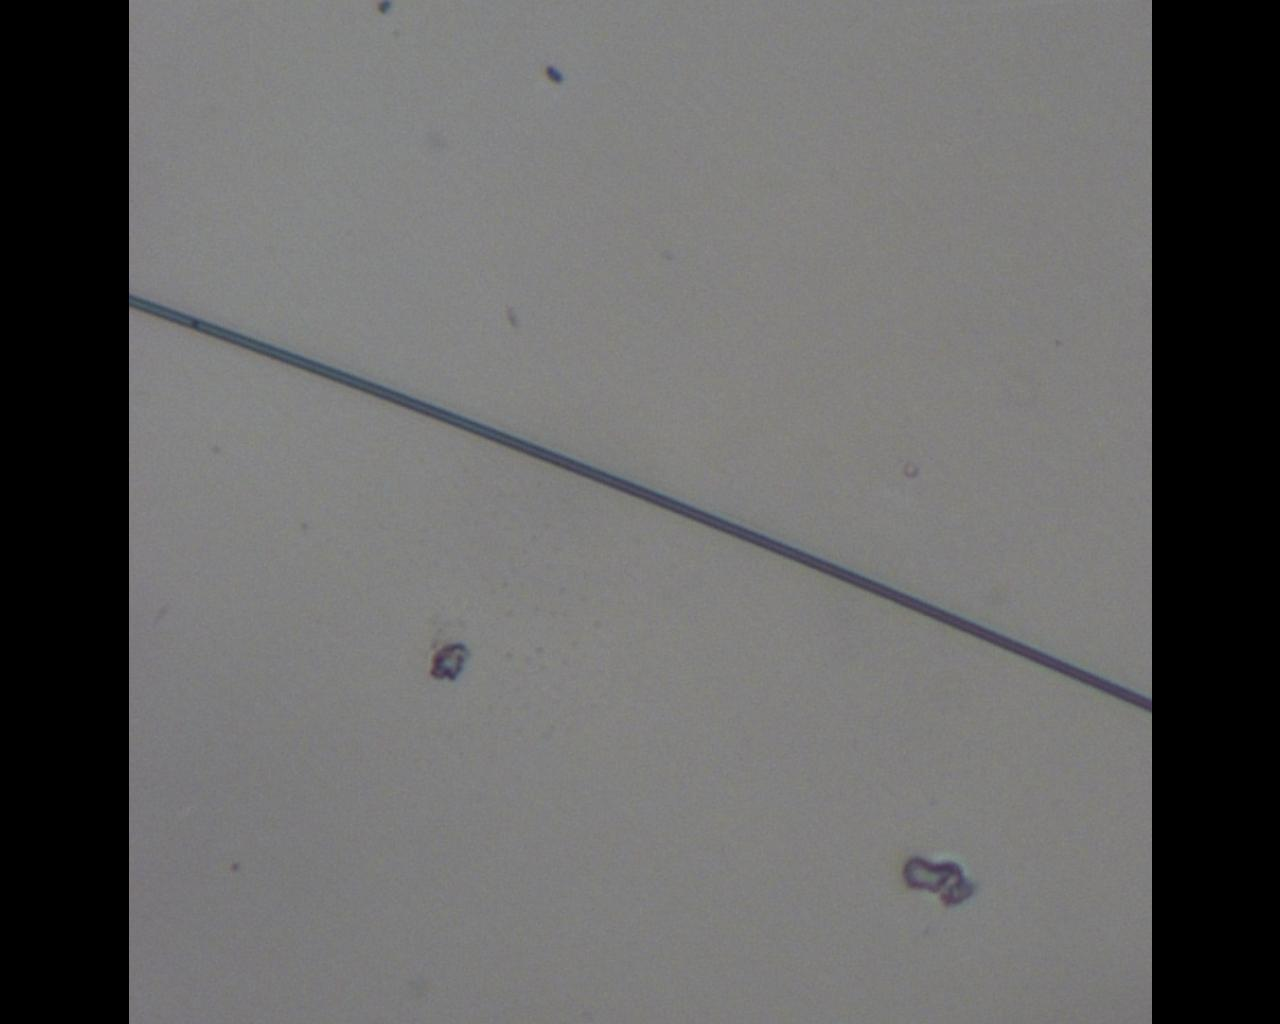fiber: (376, 0, 963, 1024)
